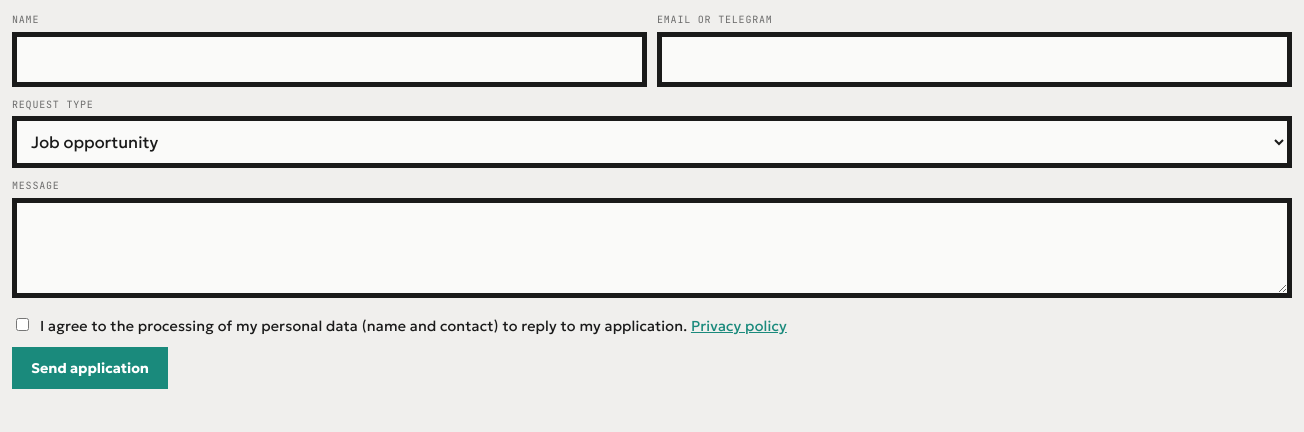
ApplicationForm › submits successfully and shows success message
Step 1. Type "Ivan Petrov" into the field labelled "Name" → (330, 59), box [12, 32, 647, 87]
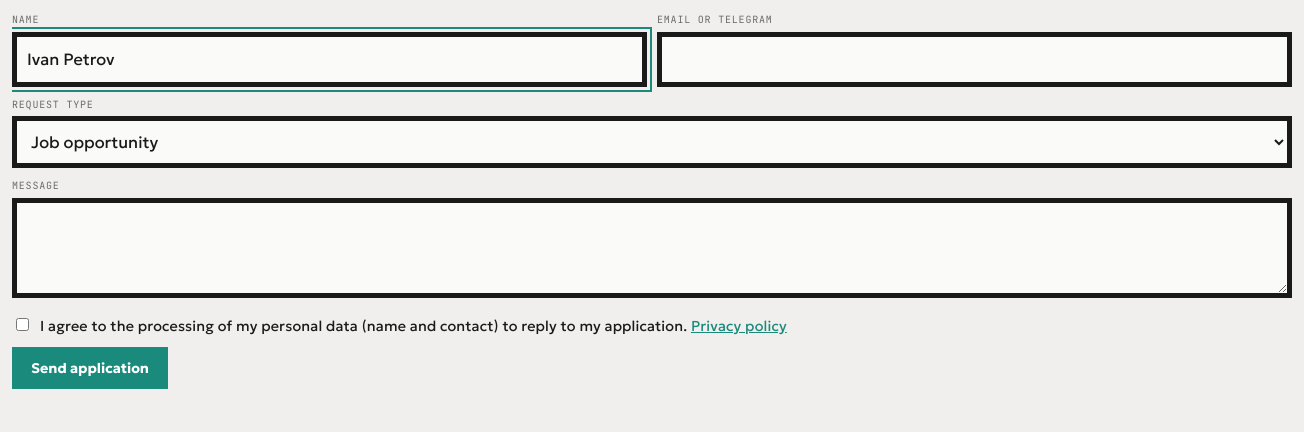
Step 2. Type "@ivan" into the field labelled "Email or Telegram" → (974, 59), box [657, 32, 1292, 87]
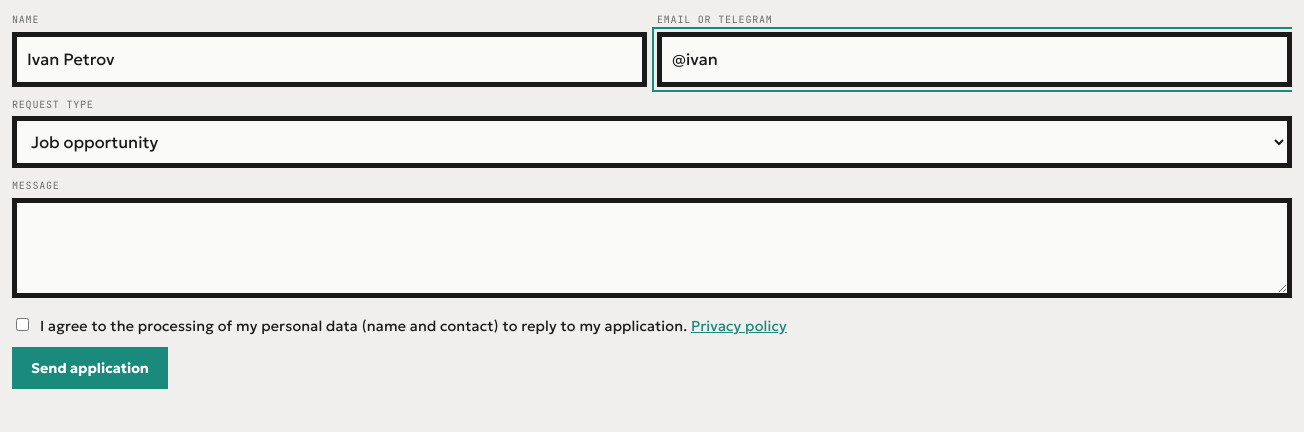
Step 3. Type "I would like to discuss a backend role with you." into the text box labelled "Message" → (652, 248), box [12, 198, 1292, 298]
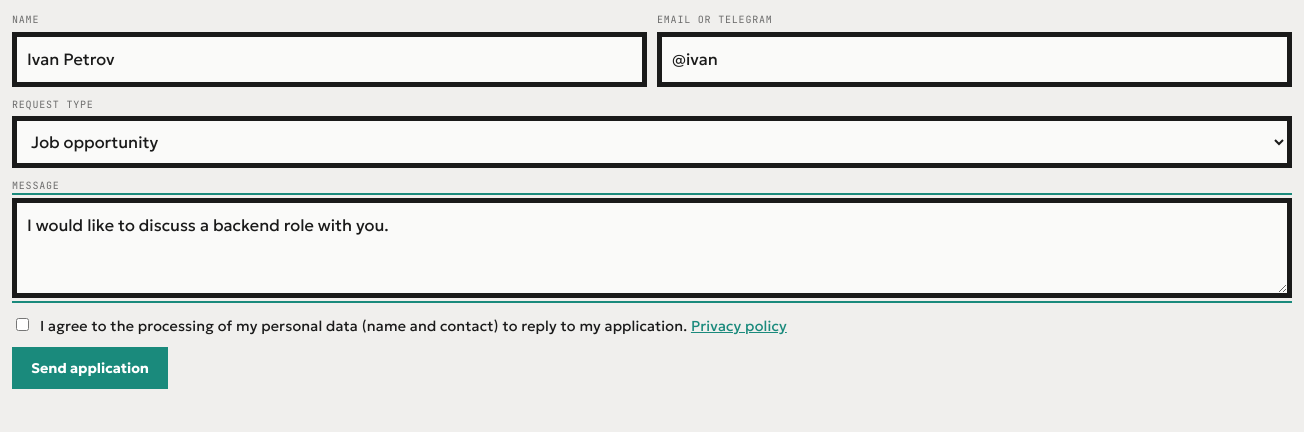
Step 4. Click the checkbox → (22, 325), box [16, 318, 29, 331]
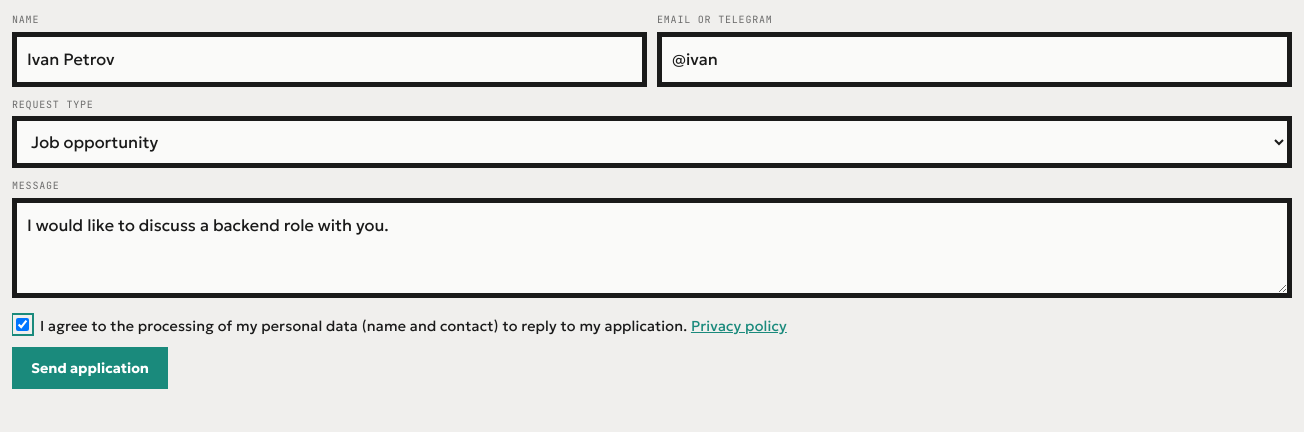
Step 5. Click the button "Send application" → (90, 368), box [12, 347, 168, 389]
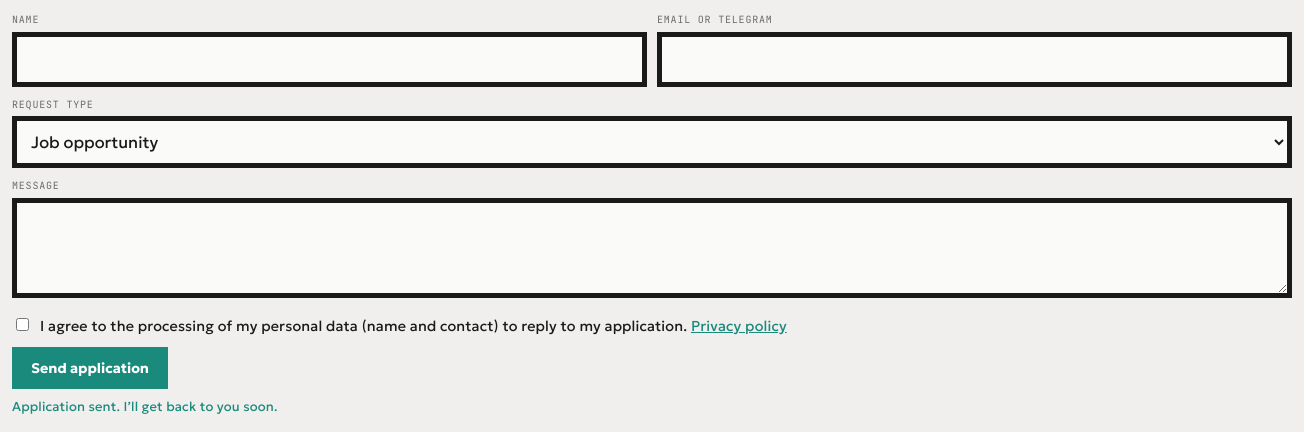
Check: the message reads "Application sent. I’ll get back to you soon.", box [12, 398, 278, 415]
